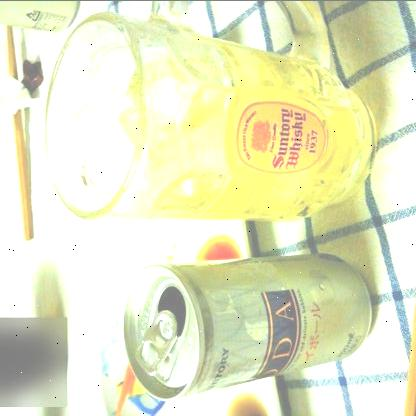Can: (122, 251, 374, 399)
